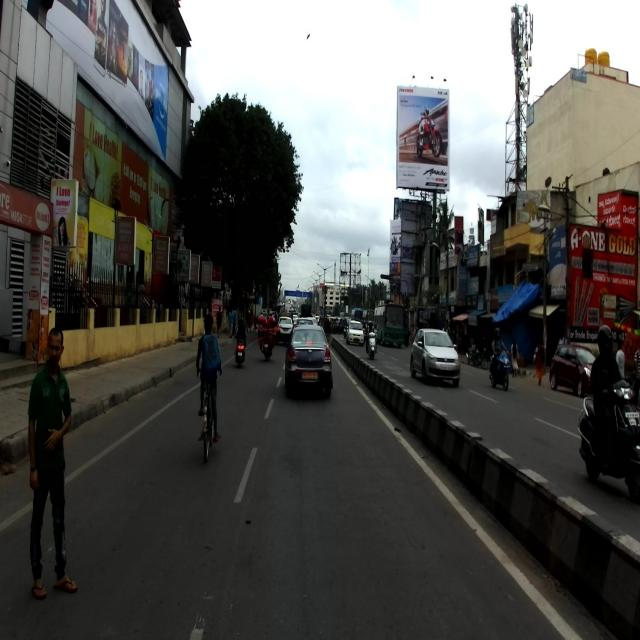car: (284, 323, 332, 399), (410, 327, 460, 387)
scooter: (576, 378, 640, 501)
